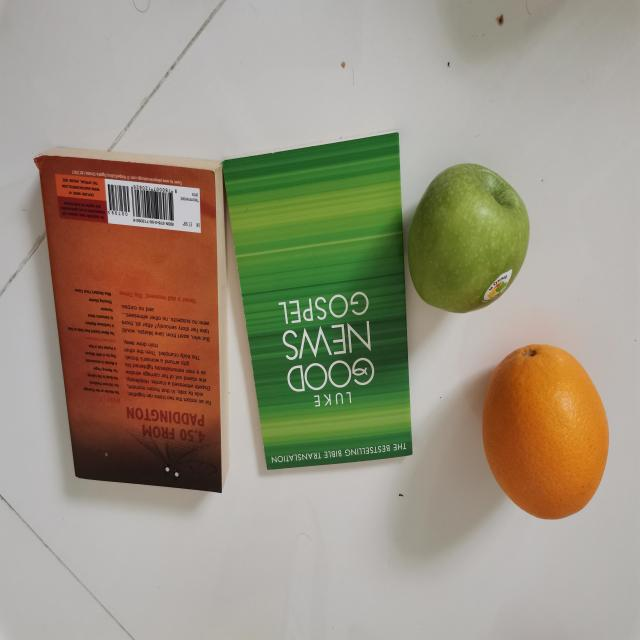Apple: (407, 159, 532, 314)
Book: (37, 144, 235, 496), (218, 128, 416, 473)
Orange: (480, 341, 609, 521)
